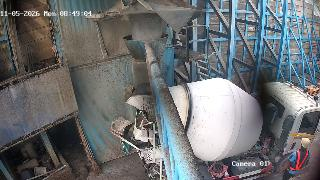cement_mixer_truck: (124, 78, 320, 180)
swing_chute: (124, 36, 170, 95)
